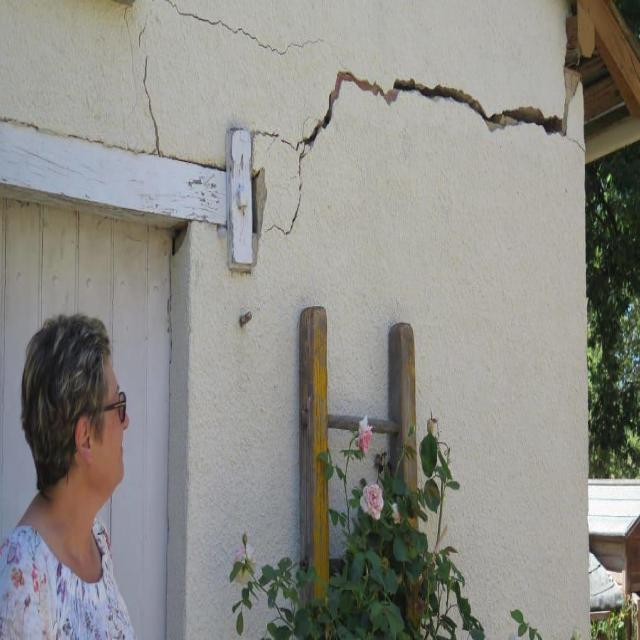crack: (299, 17, 587, 155), (251, 126, 303, 242)
